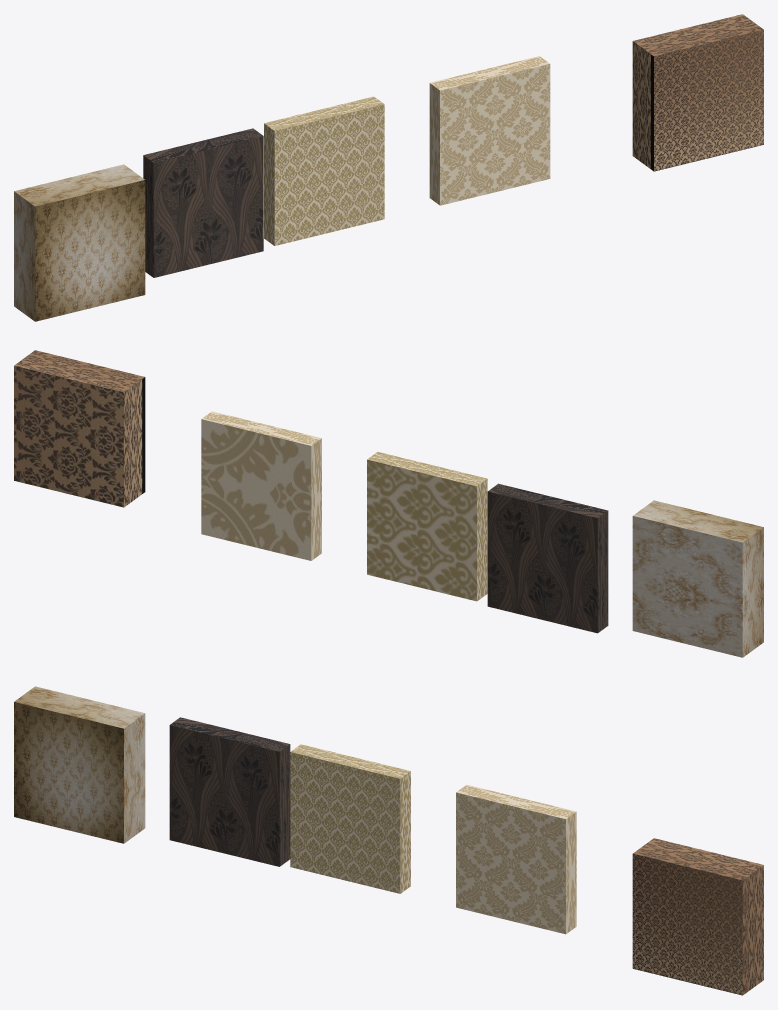
File: texturas.fbx
3 views of the same model, one above another, from view 1: azimuth 30°, elevation 25°; view 2: azimuth 150°, elevation 25°; view 3: azimuth 330°, elevation 25° (orthographic).
Parts seen in each view (by area): view 1: Cubo.008, Cubo.010, Cubo.007, Cubo.006, Cubo.005; view 2: Cubo.008, Cubo.010, Cubo.005, Cubo.006, Cubo.007; view 3: Cubo.008, Cubo.010, Cubo.005, Cubo.006, Cubo.007.
Boxes of the visible parts, x1=… form: Cubo.008: x1=14, y1=164, x2=145, y2=321; Cubo.010: x1=632, y1=14, x2=763, y2=171; Cubo.007: x1=429, y1=56, x2=550, y2=205; Cubo.006: x1=264, y1=96, x2=384, y2=245; Cubo.005: x1=143, y1=128, x2=263, y2=277; Cubo.008: x1=632, y1=500, x2=763, y2=657; Cubo.010: x1=14, y1=350, x2=145, y2=507; Cubo.005: x1=487, y1=483, x2=608, y2=633; Cubo.006: x1=367, y1=452, x2=487, y2=601; Cubo.007: x1=201, y1=411, x2=321, y2=560; Cubo.008: x1=14, y1=686, x2=145, y2=843; Cubo.010: x1=632, y1=838, x2=763, y2=995; Cubo.005: x1=169, y1=717, x2=290, y2=866; Cubo.006: x1=290, y1=744, x2=410, y2=893; Cubo.007: x1=456, y1=784, x2=576, y2=934.
Size of the model in its own units: 3974 by 617 by 275.
5 materials, 5 textured.
